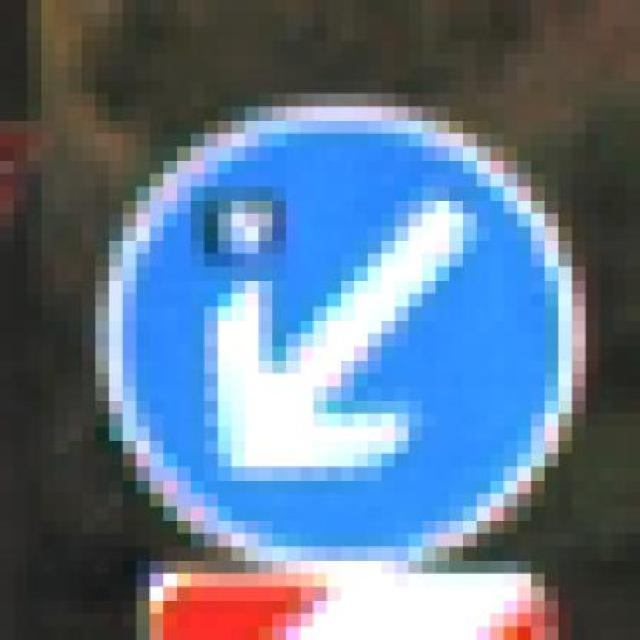Keep-Left: (55, 93, 627, 573)
